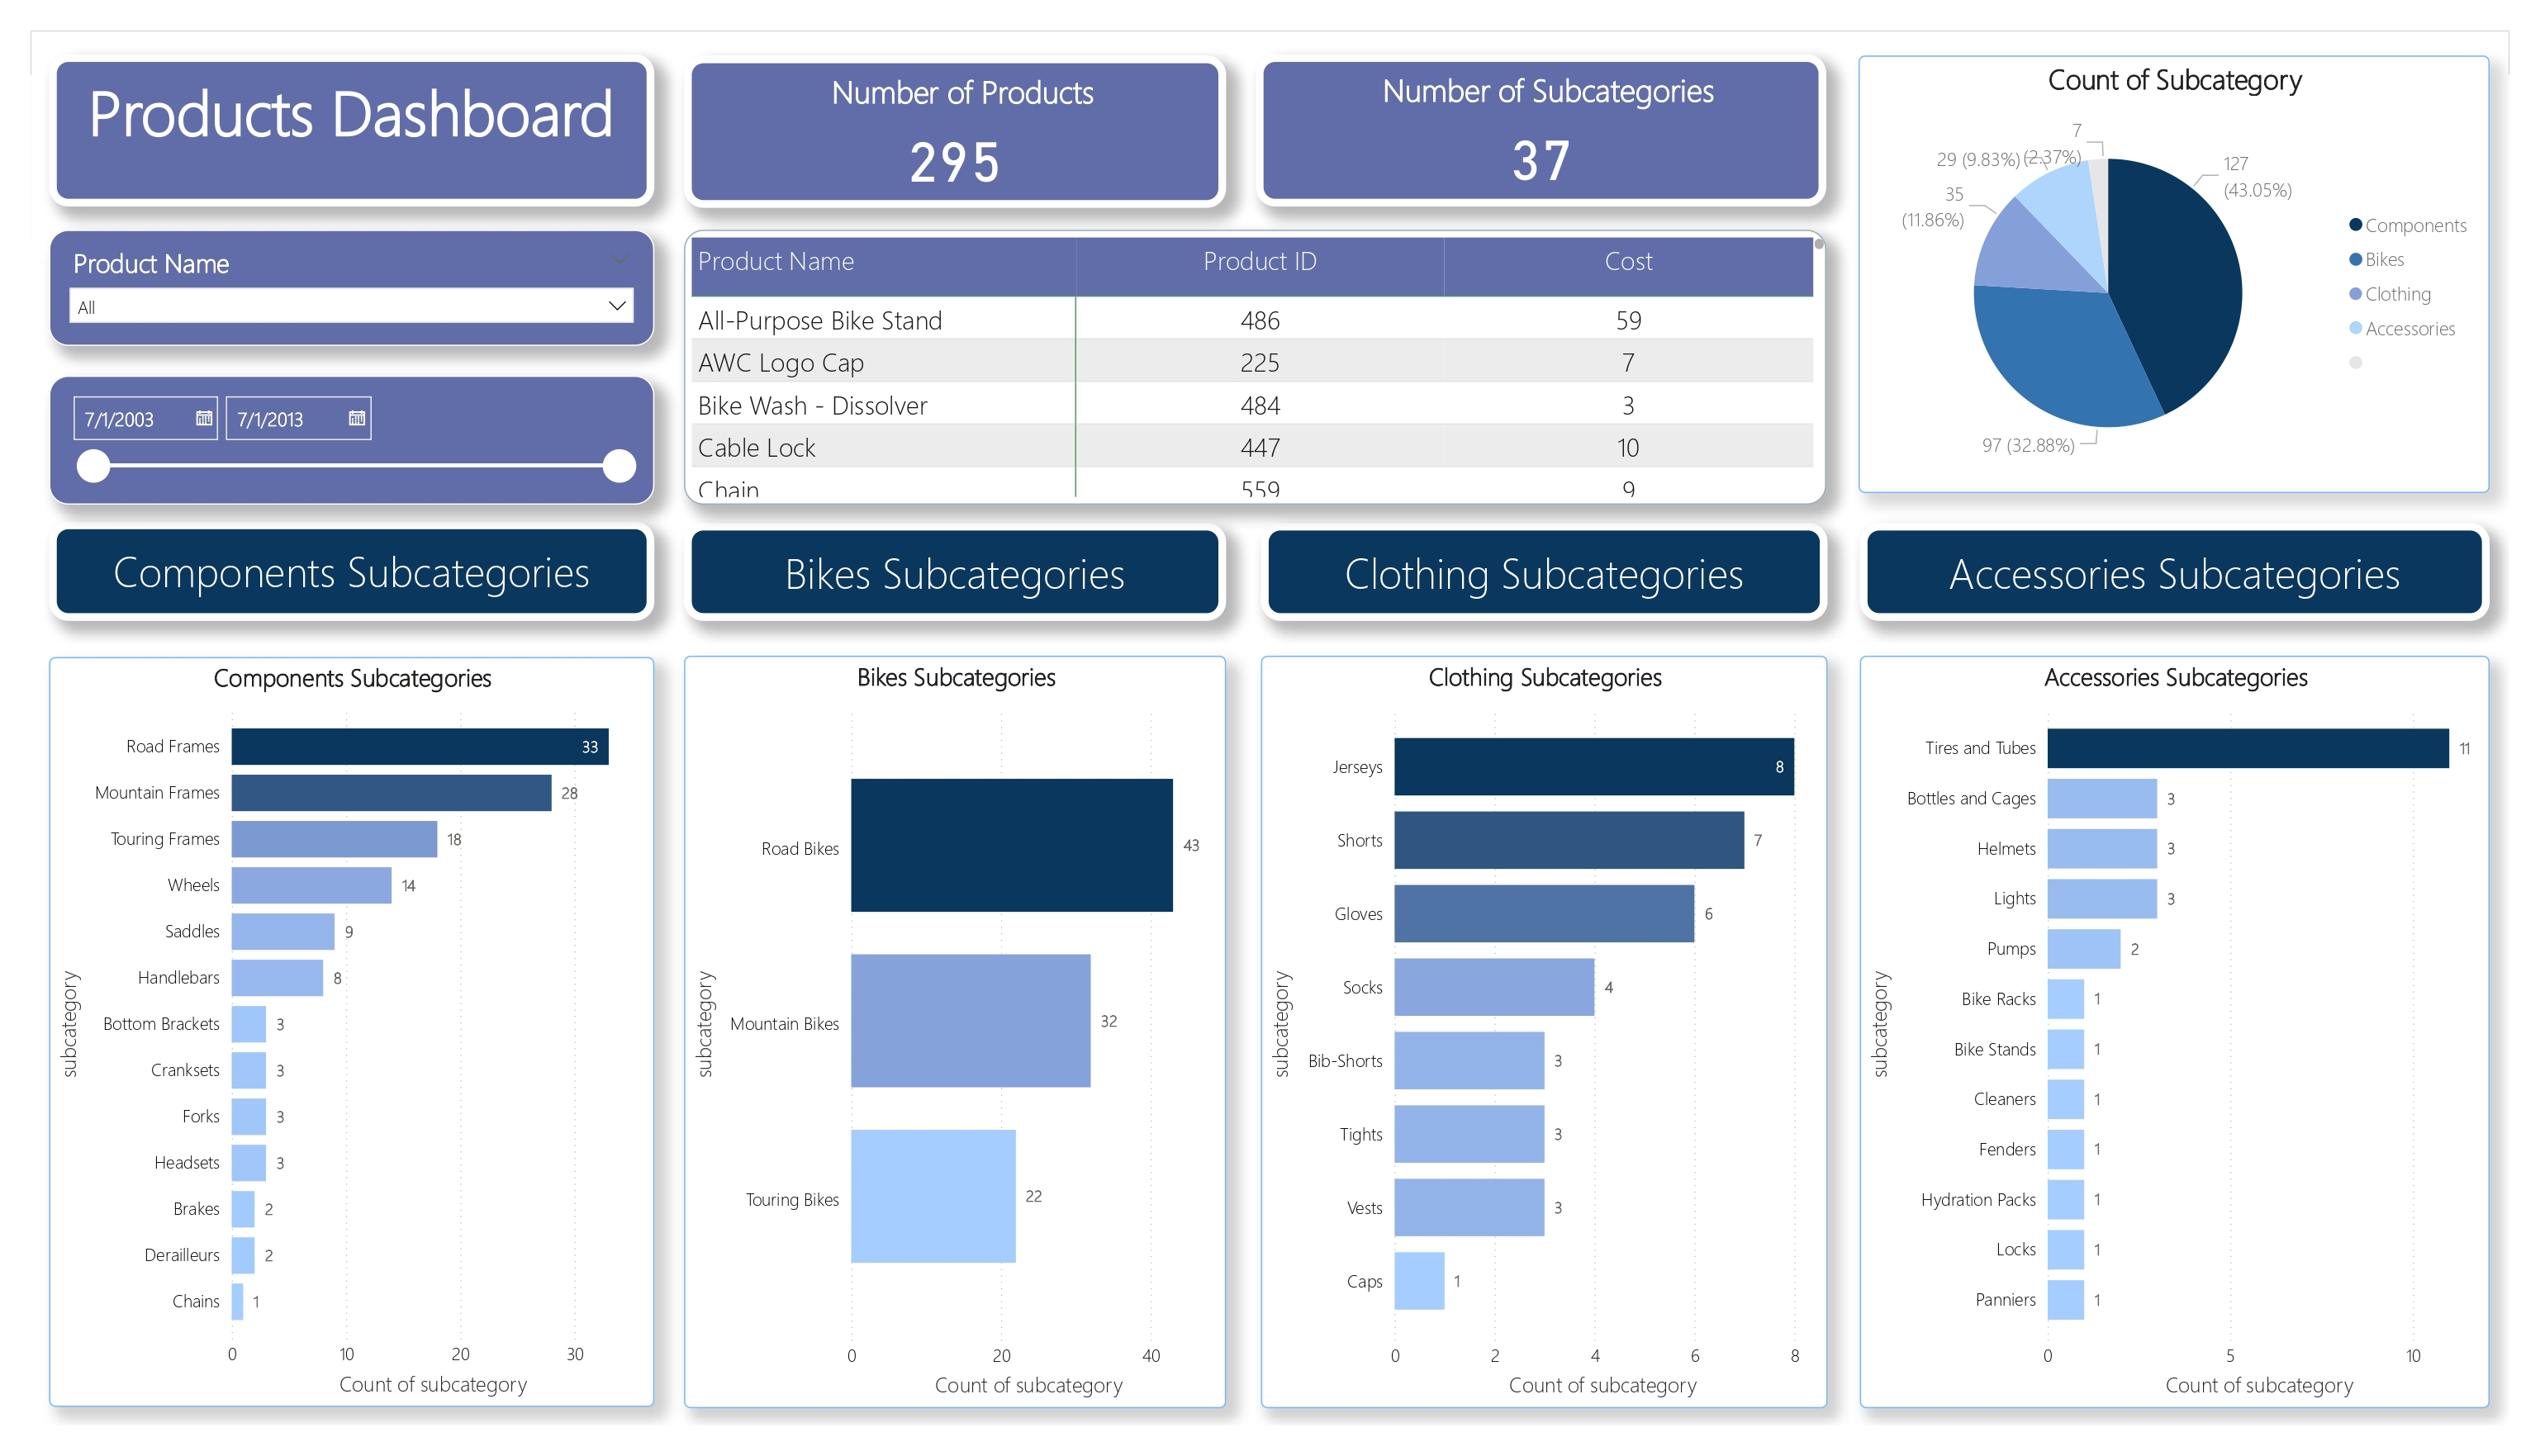

What the dashboard file says about the page in this screenshot:
{"tool":"powerbi","page":{"name":"Products","canvas":[1920,1080],"ordinal":2},"visuals":[{"type":"pieChart","title":"Count of Subcategory","fields":{"Y":["CountNonNull(dim_products.subcategory)"],"Category":["dim_products.category"]},"box":[1416.4,19,488.1,338.9],"z":0},{"type":"barChart","title":"Components Subcategories","fields":{"Y":["CountNonNull(dim_products.subcategory)"],"Category":["dim_products.subcategory"]},"box":[13.8,484.6,469.3,581.2],"z":1000},{"type":"barChart","title":"Bikes Subcategories","fields":{"Y":["CountNonNull(dim_products.subcategory)"],"Category":["dim_products.subcategory"]},"box":[506.3,484.4,420.2,582.1],"z":2000},{"type":"barChart","title":"Clothing Subcategories","fields":{"Y":["CountNonNull(dim_products.subcategory)"],"Category":["dim_products.subcategory"]},"box":[952.7,484.4,439.1,582.1],"z":3000},{"type":"barChart","title":"Accessories Subcategories","fields":{"Y":["CountNonNull(dim_products.subcategory)"],"Category":["dim_products.subcategory"]},"box":[1416.7,484.4,488.8,582.1],"z":4000},{"type":"textbox","box":[13.8,380.3,469.3,76.7],"z":5000},{"type":"textbox","box":[1416.7,380.8,488.8,75.9],"z":6000},{"type":"textbox","box":[952.7,380.8,439.1,75.9],"z":7000},{"type":"textbox","box":[506.3,380.8,420.2,75.9],"z":8000},{"type":"card","title":"Number of Products","fields":{"Values":["Count(dim_products.product_name)"]},"box":[505.9,19,419.9,117.6],"z":9000},{"type":"pivotTable","fields":{"Values":["Sum(dim_products.product_id)","Sum(dim_products.cost)"],"Rows":["dim_products.product_name"]},"box":[505.9,154.3,885.2,212.5],"z":10000},{"type":"slicer","fields":{"Values":["dim_products.start_date"]},"box":[13.9,266.8,469.2,99.9],"z":11000},{"type":"slicer","fields":{"Values":["dim_products.product_name"]},"box":[13.9,154.3,469.2,89.8],"z":12000},{"type":"textbox","box":[13.8,18.4,469.3,118.1],"z":13000},{"type":"card","title":"Number of Subcategories","fields":{"Values":["Count(dim_products.subcategory)"]},"box":[949.3,18.4,441.7,118.1],"z":14000}]}

Visuals, with their boxes in screenshot pixels (x1, y1, x2, y2):
"Count of Subcategory" pieChart: detection(1861, 45, 2498, 486)
"Components Subcategories" barChart: detection(31, 652, 643, 1410)
"Bikes Subcategories" barChart: detection(674, 652, 1222, 1411)
"Clothing Subcategories" barChart: detection(1256, 652, 1829, 1411)
"Accessories Subcategories" barChart: detection(1862, 652, 2500, 1411)
textbox: detection(31, 516, 643, 616)
textbox: detection(1862, 516, 2500, 615)
textbox: detection(1256, 516, 1829, 615)
textbox: detection(674, 516, 1222, 615)
"Number of Products" card: detection(673, 45, 1221, 198)
pivotTable - Sum(dim_products.product_id) x Sum(dim_products.cost): detection(673, 221, 1828, 498)
slicer - dim_products.start_date: detection(31, 368, 643, 498)
slicer - dim_products.product_name: detection(31, 221, 643, 339)
textbox: detection(31, 44, 643, 198)
"Number of Subcategories" card: detection(1251, 44, 1828, 198)
